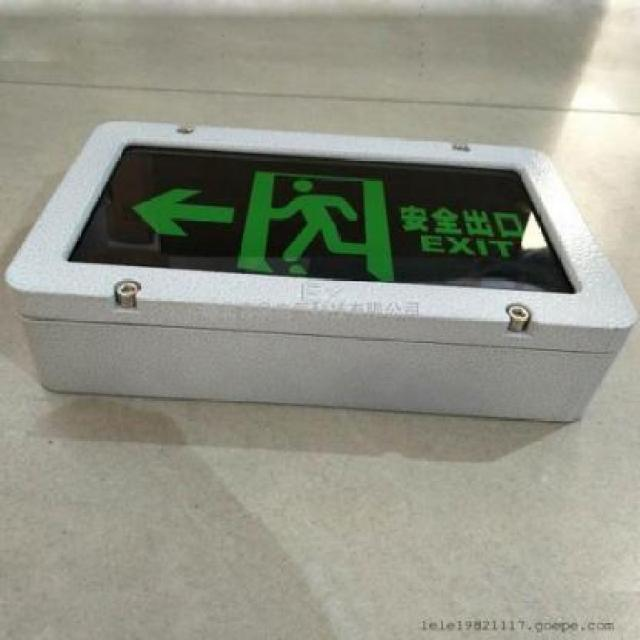exit_sign: (74, 143, 580, 305)
